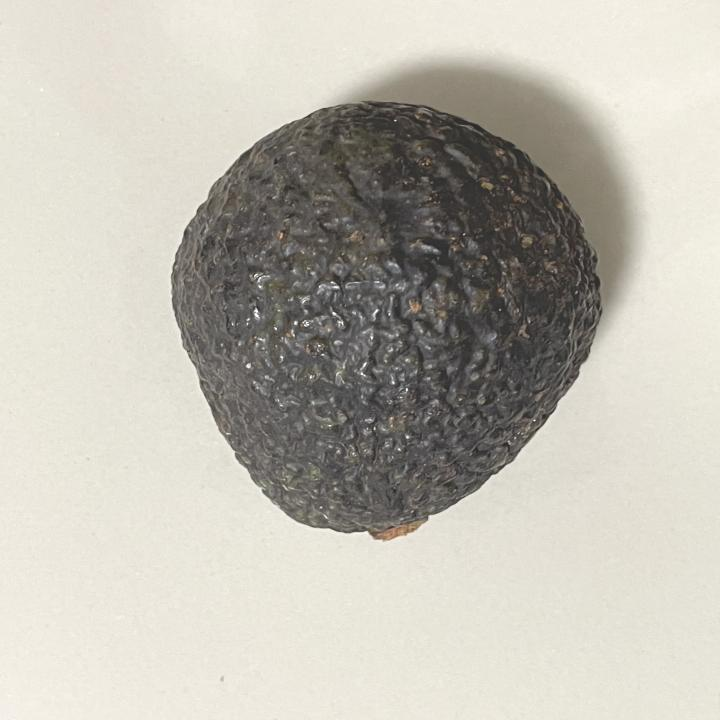Level1: (150, 92, 618, 562)
